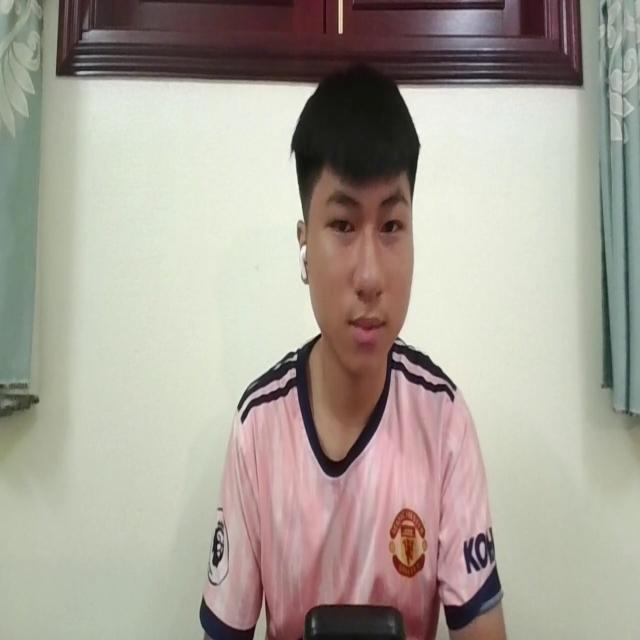student: (201, 59, 506, 640)
